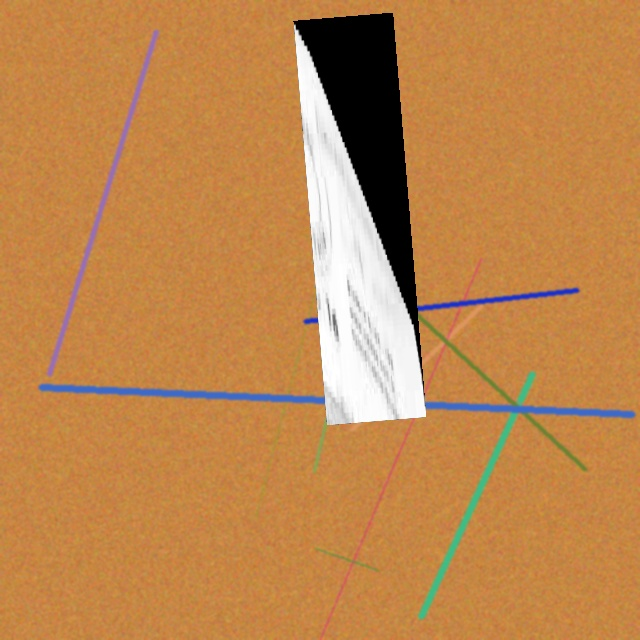electricity-bill: (292, 12, 425, 424)
